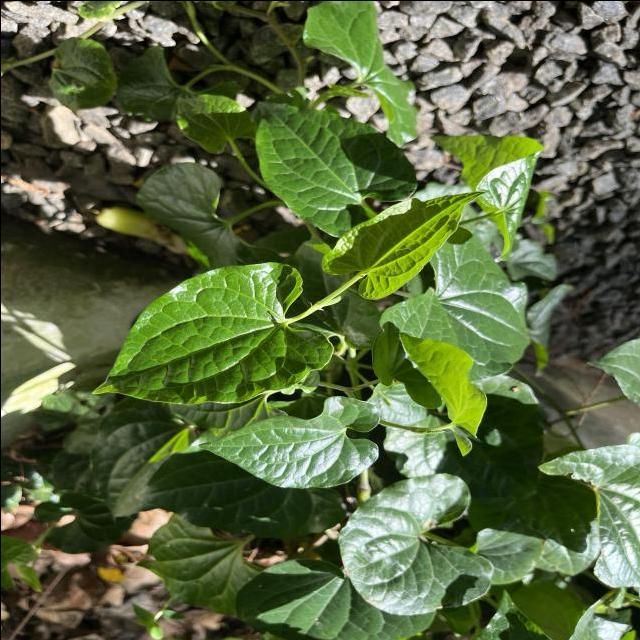Piper longum: (88, 259, 334, 406), (317, 188, 488, 300), (195, 394, 383, 489)
